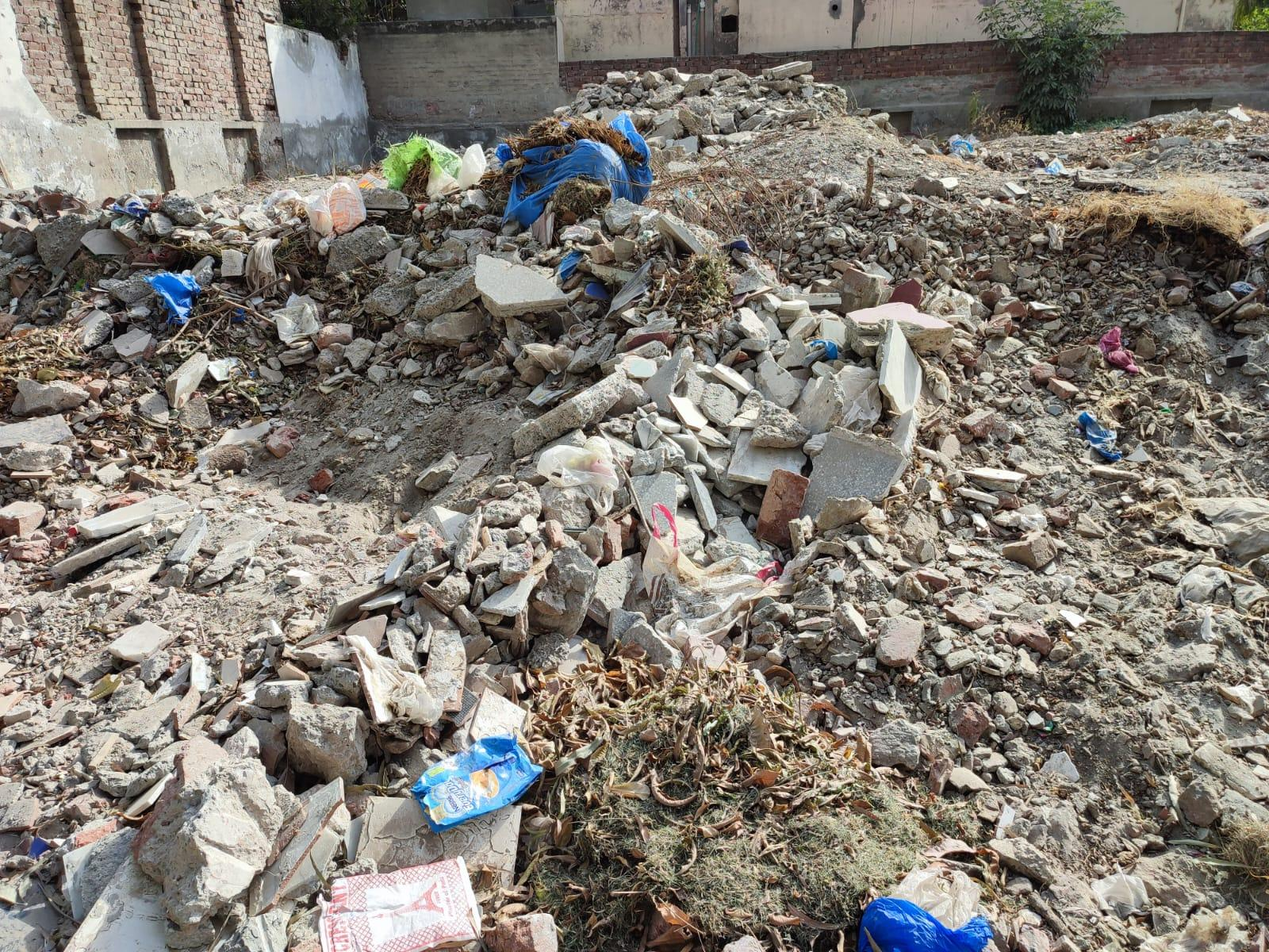garbage: (372, 673, 1032, 952), (332, 106, 678, 319), (78, 244, 246, 386)
